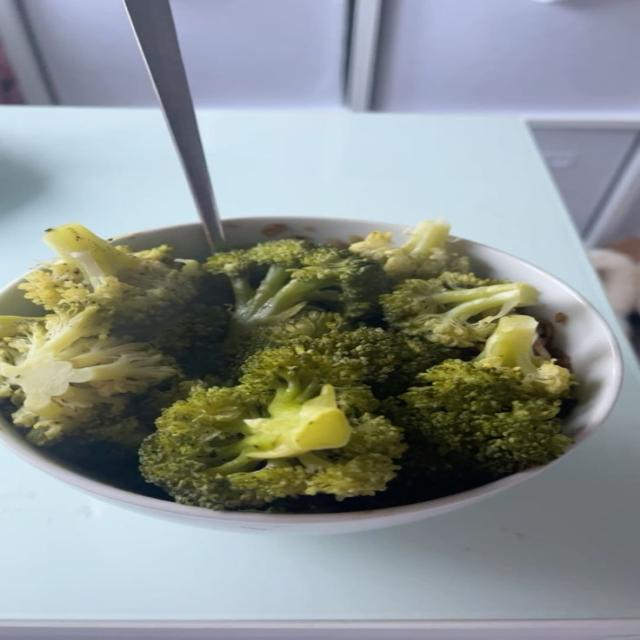broccoli: (140, 353, 405, 509), (0, 307, 179, 444), (386, 360, 571, 477), (20, 224, 201, 333), (239, 312, 460, 397), (206, 239, 387, 336), (380, 273, 538, 347), (224, 311, 351, 378), (475, 315, 572, 397), (350, 219, 469, 279), (153, 303, 229, 378)
